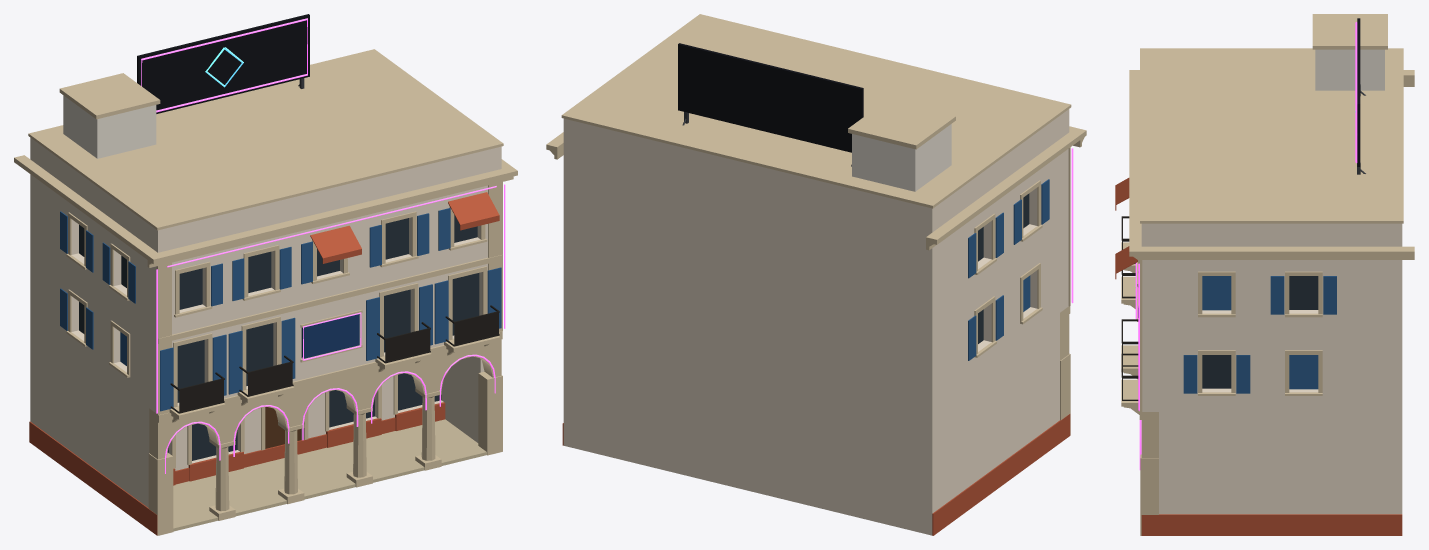
The picture shows the model from 3 angles, left to right: view 1: azimuth 30°, elevation 25°; view 2: azimuth 150°, elevation 25°; view 3: azimuth 270°, elevation 25°; orthographic projection. The views are drawn at different scales.
Visible parts, largest first — view 1: arcade.lod1; view 2: arcade.lod1; view 3: arcade.lod1.
Boxes of the visible parts, x1,y1,x2,y2 form: arcade.lod1: (14,14,517,535); arcade.lod1: (546,14,1086,535); arcade.lod1: (1115,14,1414,535).
Size of the model in its own units: 14.84 by 14.8 by 10.32.
